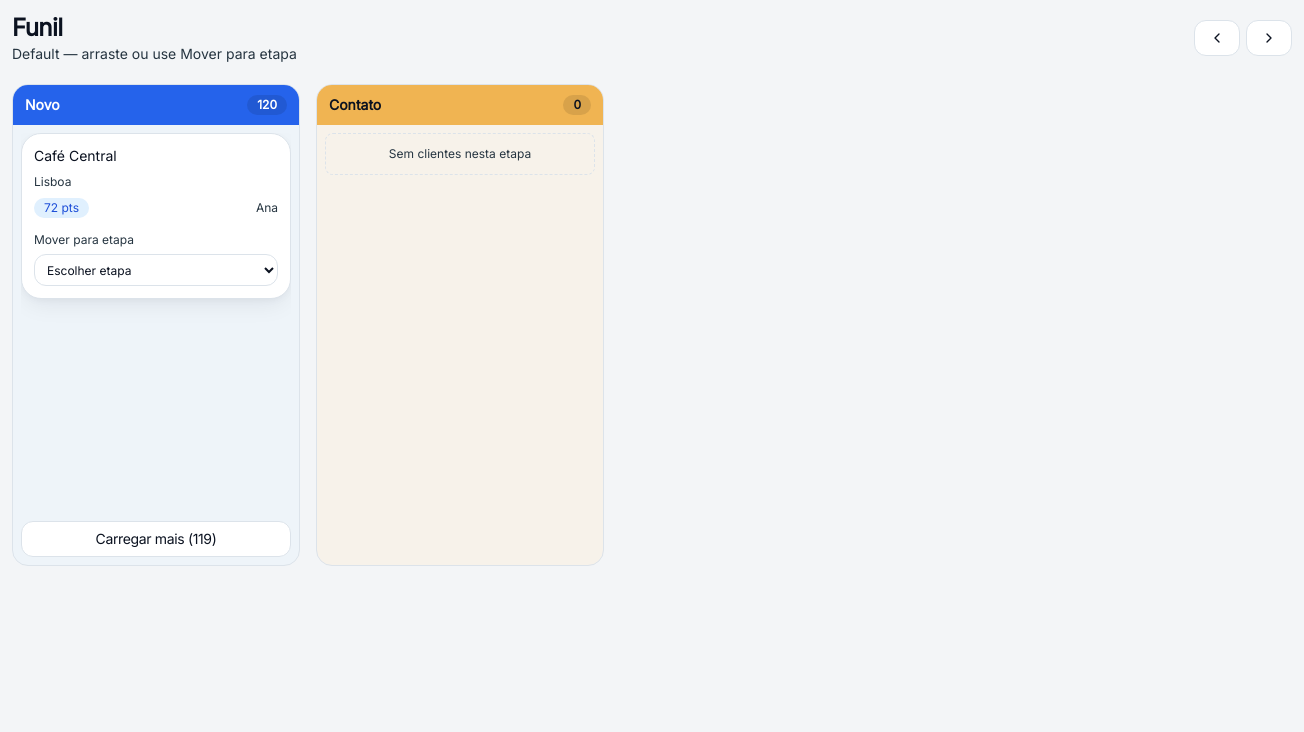
Test case: PipelinePage › shows column totals and loads more leads past the first page
Expected: the text "120" is shown, [247,95,287,115]
Click the button "Carregar mais (119)" at (156, 539), box [21,521,291,557]
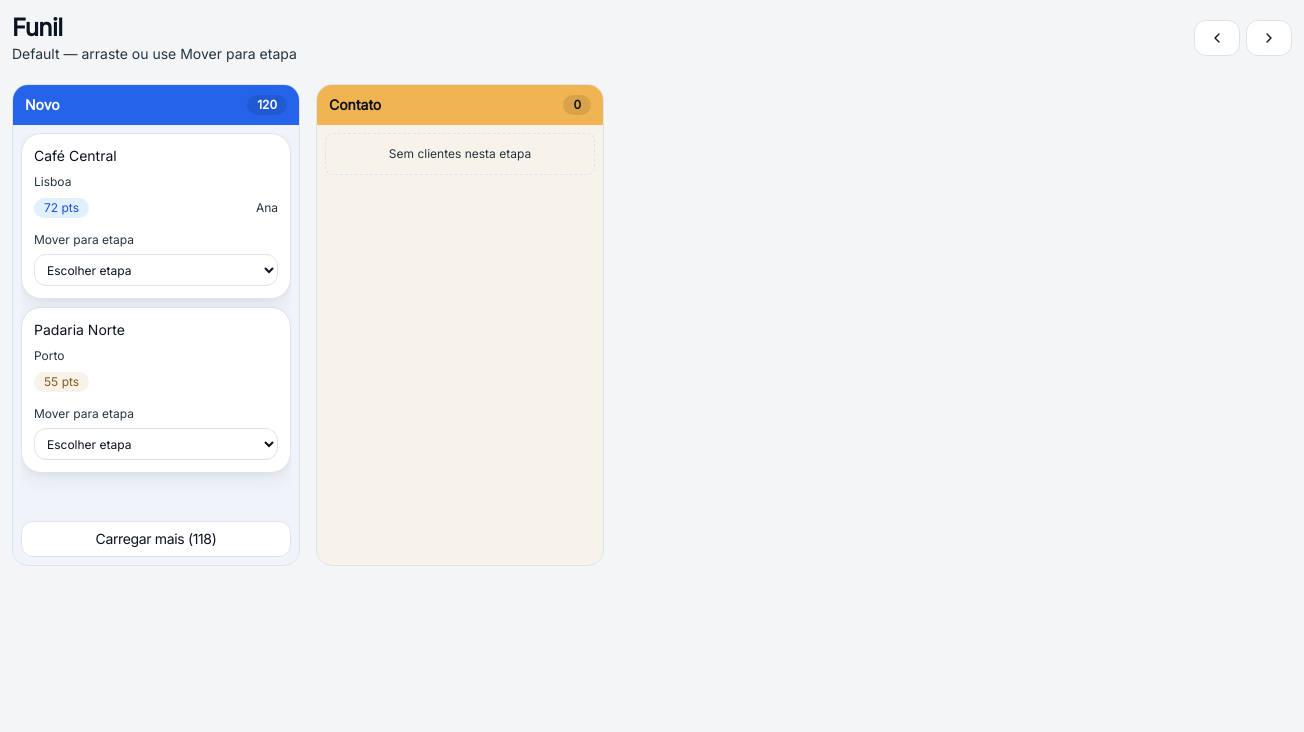
Expected: the link "Padaria Norte" is shown, [34,321,125,338]
